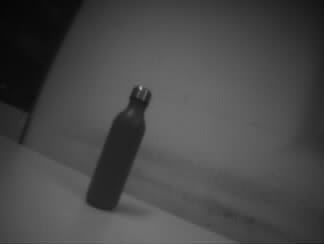Bottle: (86, 84, 153, 212)
